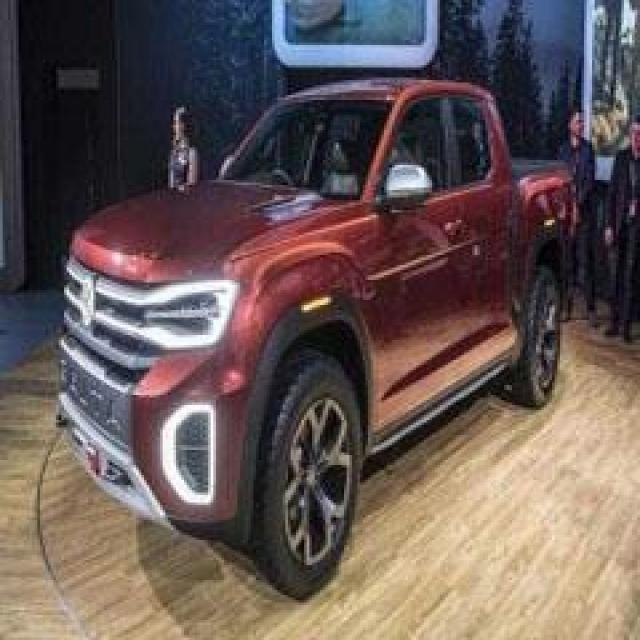car: (9, 36, 591, 601)
